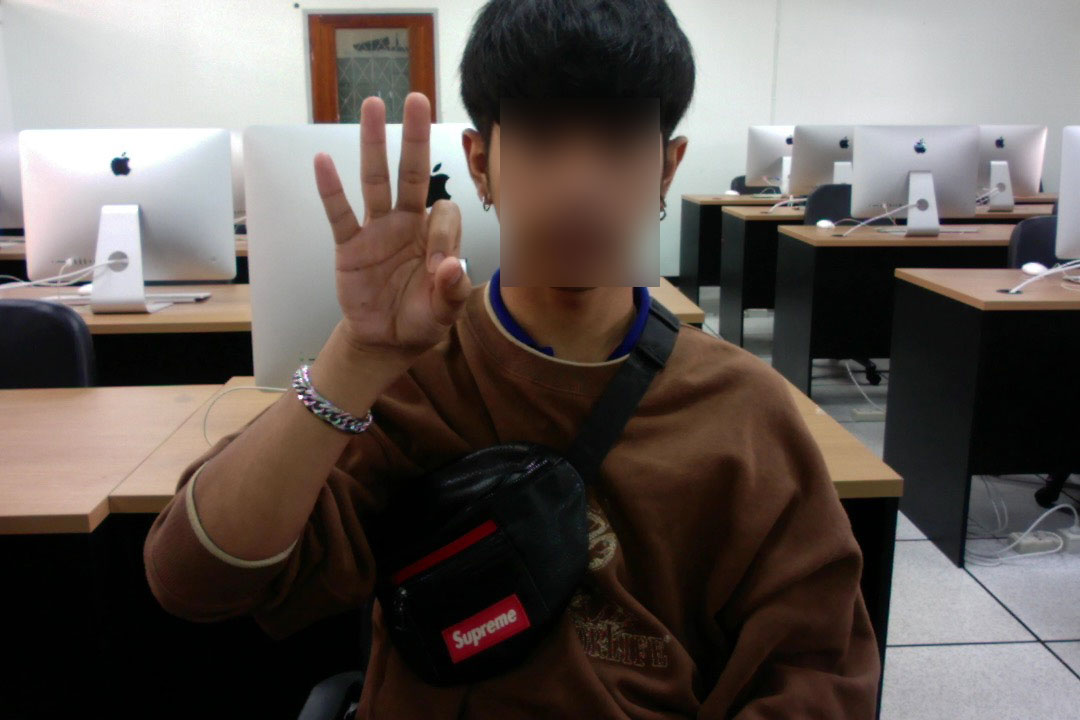for: (285, 75, 488, 401)
